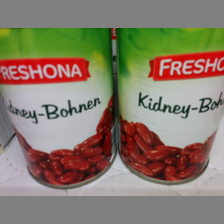beans: (1, 27, 113, 189), (115, 28, 224, 186)
